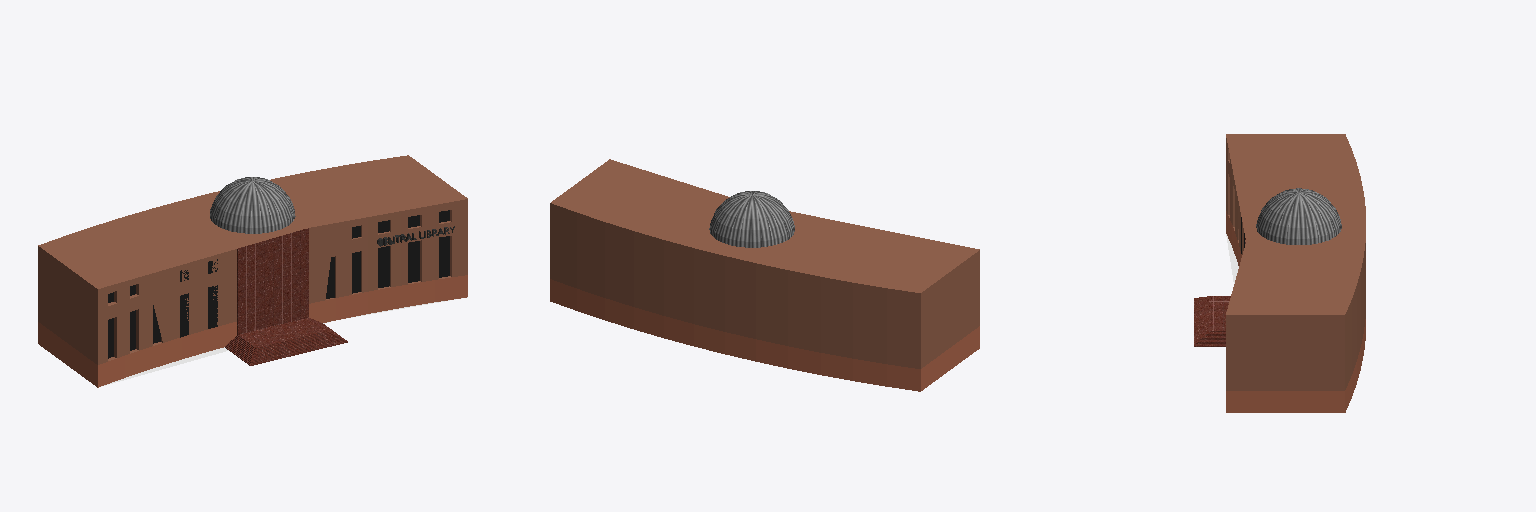
3 renders of one model, left to right at view 1: azimuth 30°, elevation 25°; view 2: azimuth 150°, elevation 25°; view 3: azimuth 270°, elevation 25°, orthographic.
Parts seen in each view (by area): view 1: Mesh30 Model, Mesh15 Untitled1 Model, Mesh9 Group10 Group3 Model; view 2: Mesh30 Model, Mesh15 Untitled1 Model; view 3: Mesh30 Model, Mesh15 Untitled1 Model, Mesh9 Group10 Group3 Model.
Part boxes in pixels (left/top/right/bottom): Mesh30 Model: left=38, top=155, right=467, bottom=387; Mesh15 Untitled1 Model: left=210, top=177, right=295, bottom=233; Mesh9 Group10 Group3 Model: left=238, top=318, right=326, bottom=348; Mesh30 Model: left=550, top=159, right=979, bottom=391; Mesh15 Untitled1 Model: left=709, top=191, right=794, bottom=247; Mesh30 Model: left=1226, top=134, right=1365, bottom=412; Mesh15 Untitled1 Model: left=1256, top=188, right=1341, bottom=244; Mesh9 Group10 Group3 Model: left=1209, top=296, right=1230, bottom=331.
Size of the model in its own units: 6222 by 2141 by 2514.
Materials: 8 (3 with a texture image).